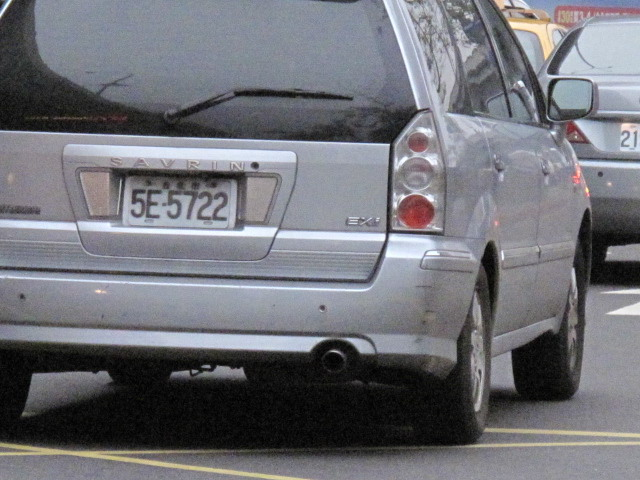plate: (126, 172, 234, 230)
